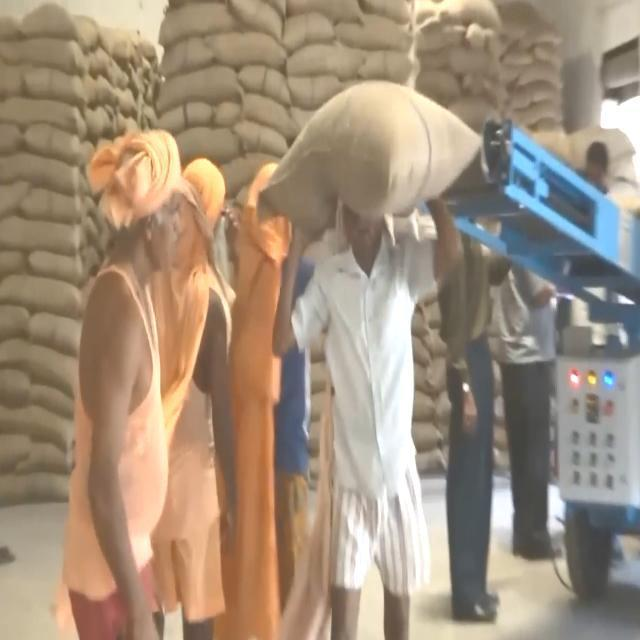gunny_bag: (262, 74, 486, 244), (22, 66, 114, 109), (203, 26, 285, 70), (0, 40, 92, 79), (0, 273, 83, 316), (0, 213, 85, 254), (158, 66, 238, 108), (159, 0, 233, 45), (0, 96, 85, 135), (429, 0, 506, 42), (0, 154, 82, 193), (280, 44, 364, 82), (0, 399, 66, 447), (335, 16, 413, 54), (235, 92, 295, 136), (26, 346, 76, 396), (281, 12, 339, 54), (26, 308, 78, 350), (19, 0, 75, 39)
